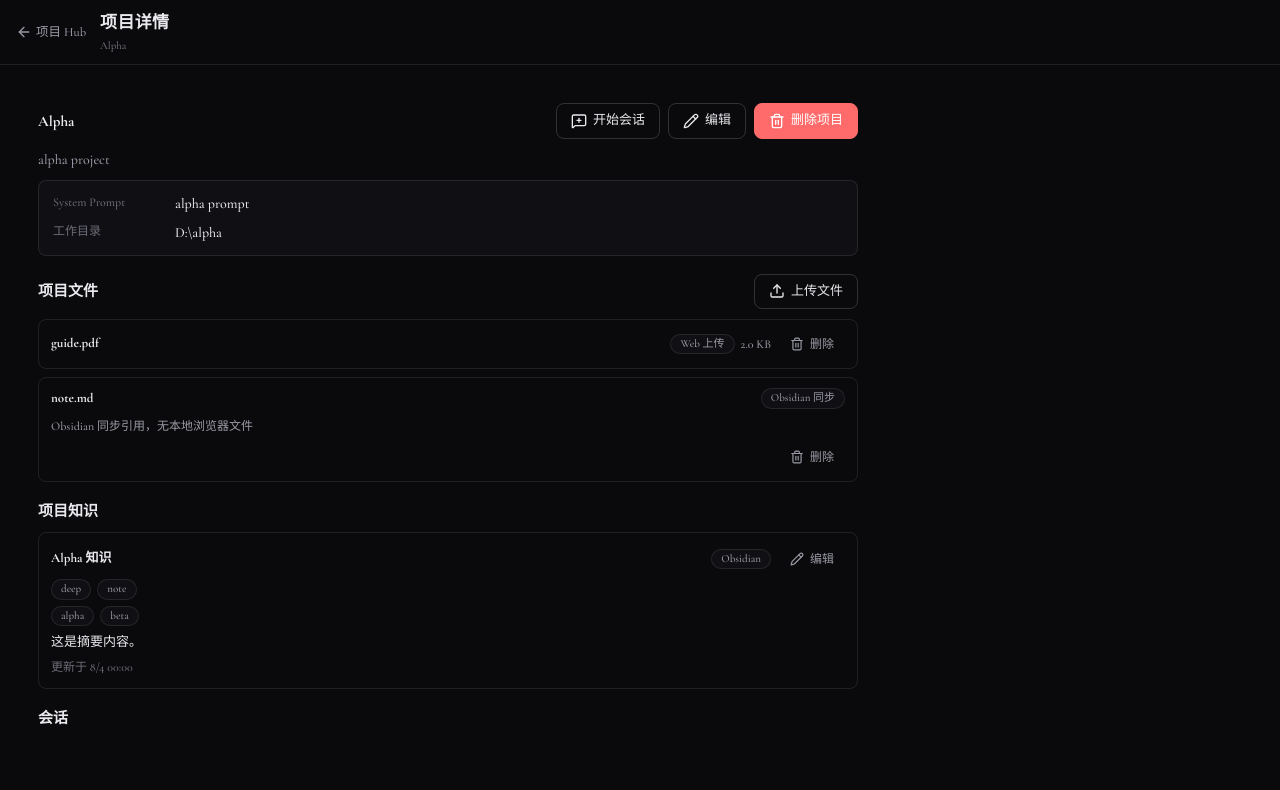
P2B file deletion (numeric and kf_ paths, Plan §6.3/§8.5) › kf_ delete passes the string id verbatim to the nested endpoint and refreshes both sections
This screenshot has width=1280, height=790.
Expected: the text "note.md" is shown, [51, 390, 93, 406]
Click the 2nd button "删除": (812, 456) [779, 442, 845, 470]
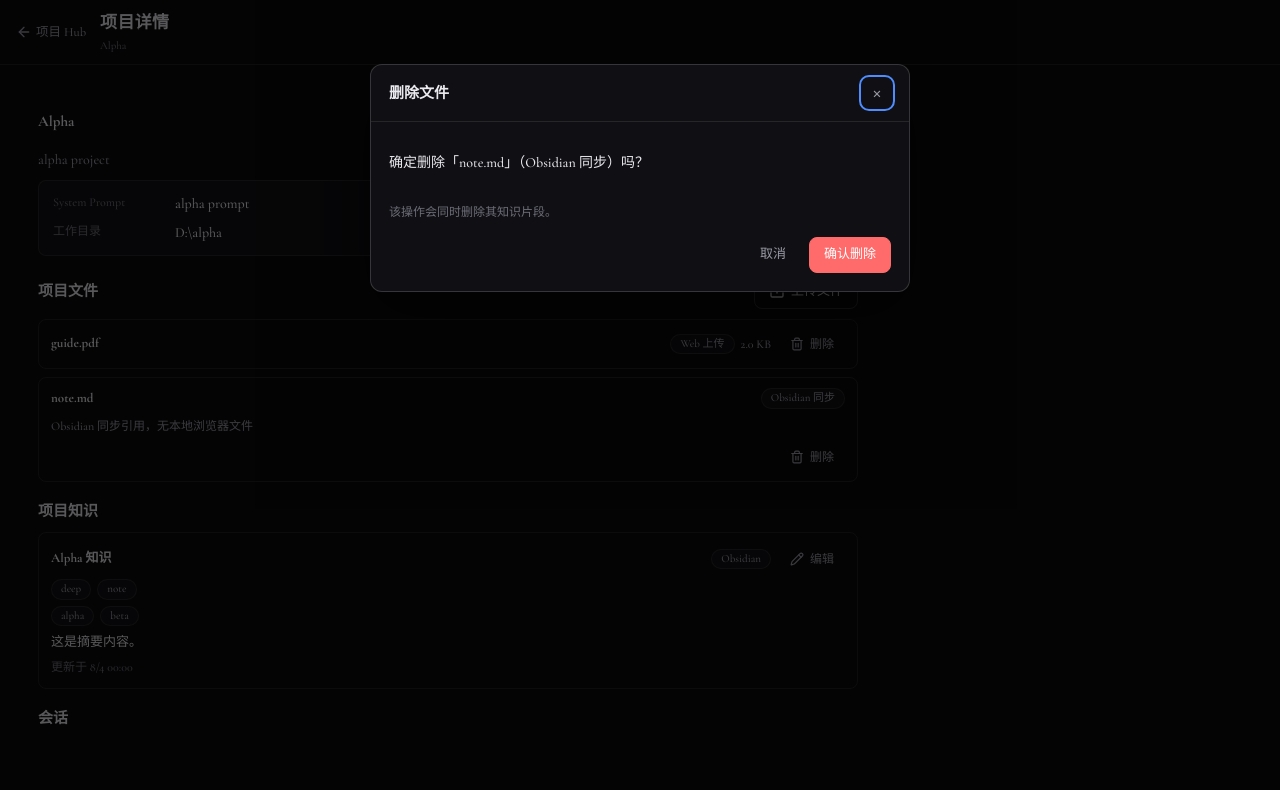
Result: the text "确定删除「note.md」（Obsidian 同步）吗？" is shown at [389, 154, 649, 171]
Click the button "确认删除": (850, 255) [809, 237, 891, 272]
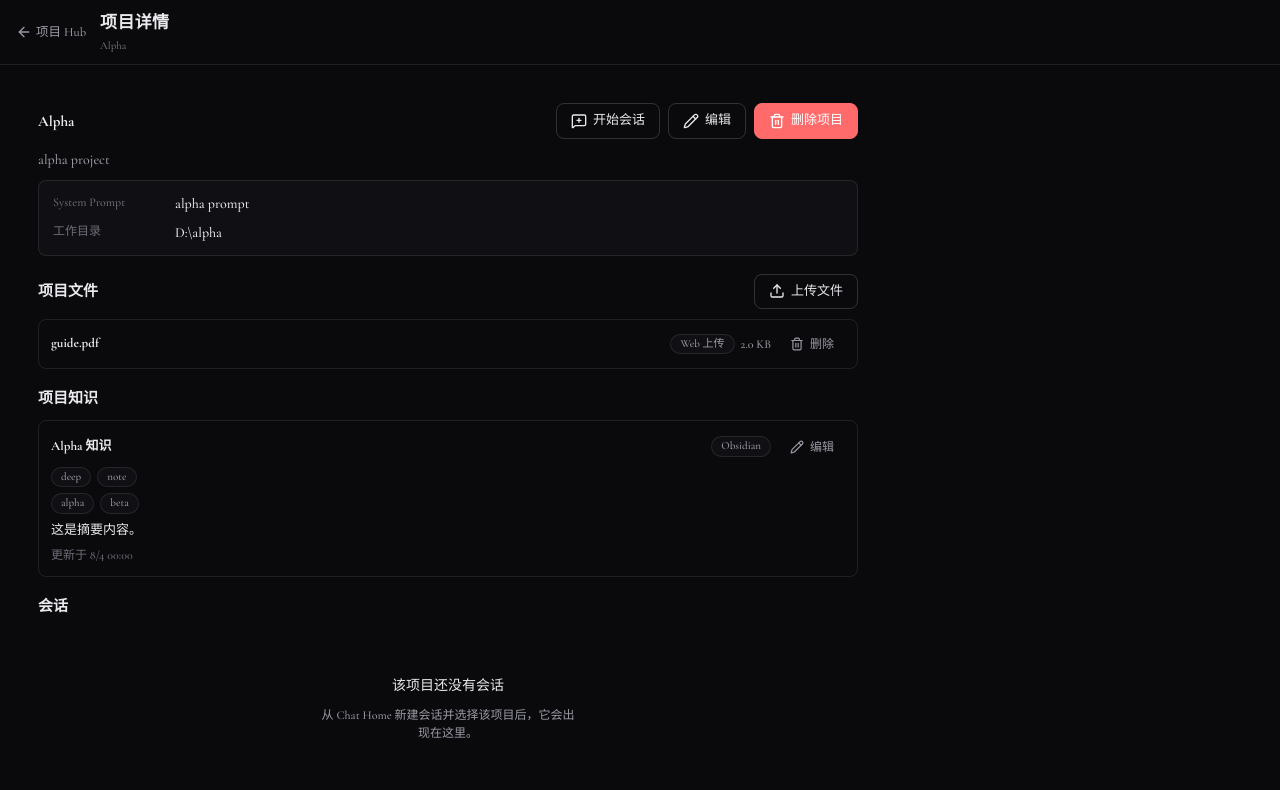
Expected: the text "guide.pdf" is shown, [51, 335, 99, 351]
Result: the text "note.md" is gone
